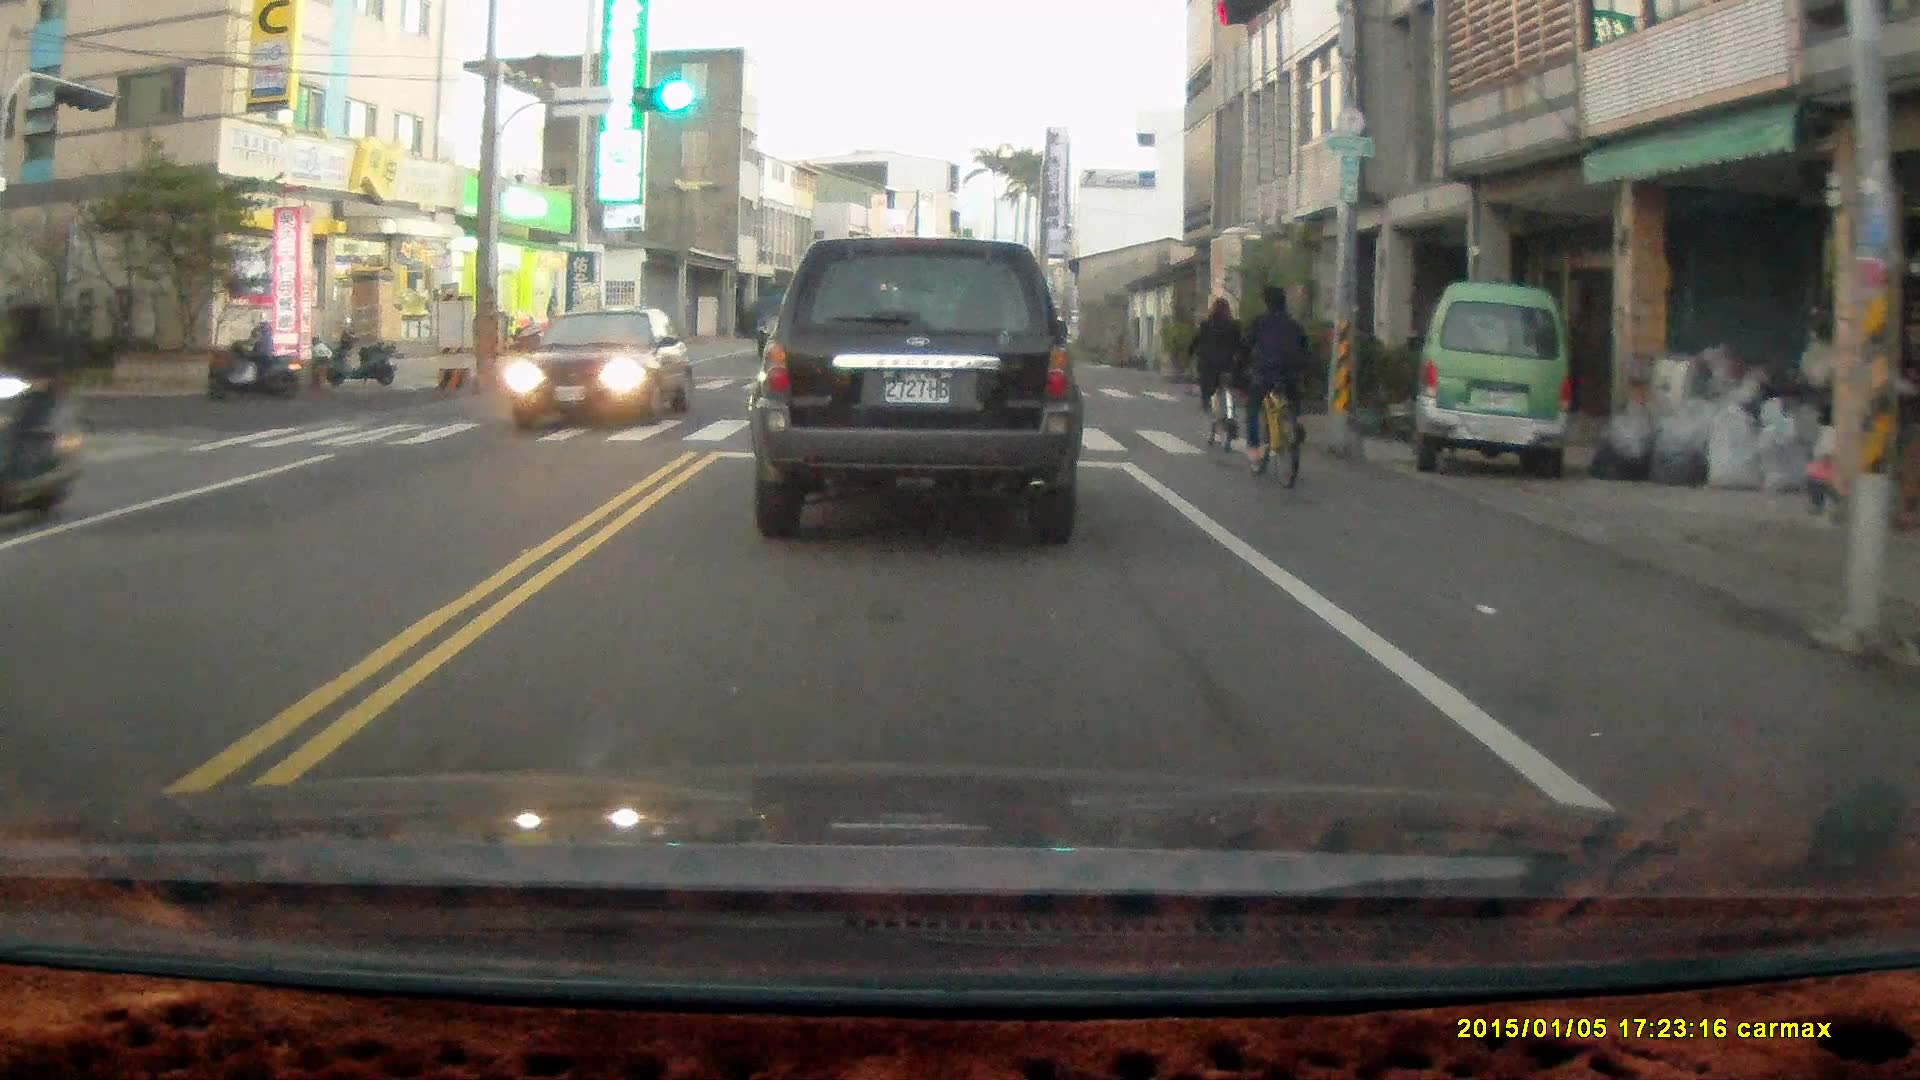rider: (0, 281, 85, 542), (1230, 277, 1313, 484), (1183, 296, 1246, 448), (205, 308, 297, 397)
vehicle: (750, 234, 1084, 549), (1414, 283, 1577, 483), (508, 302, 698, 429)
